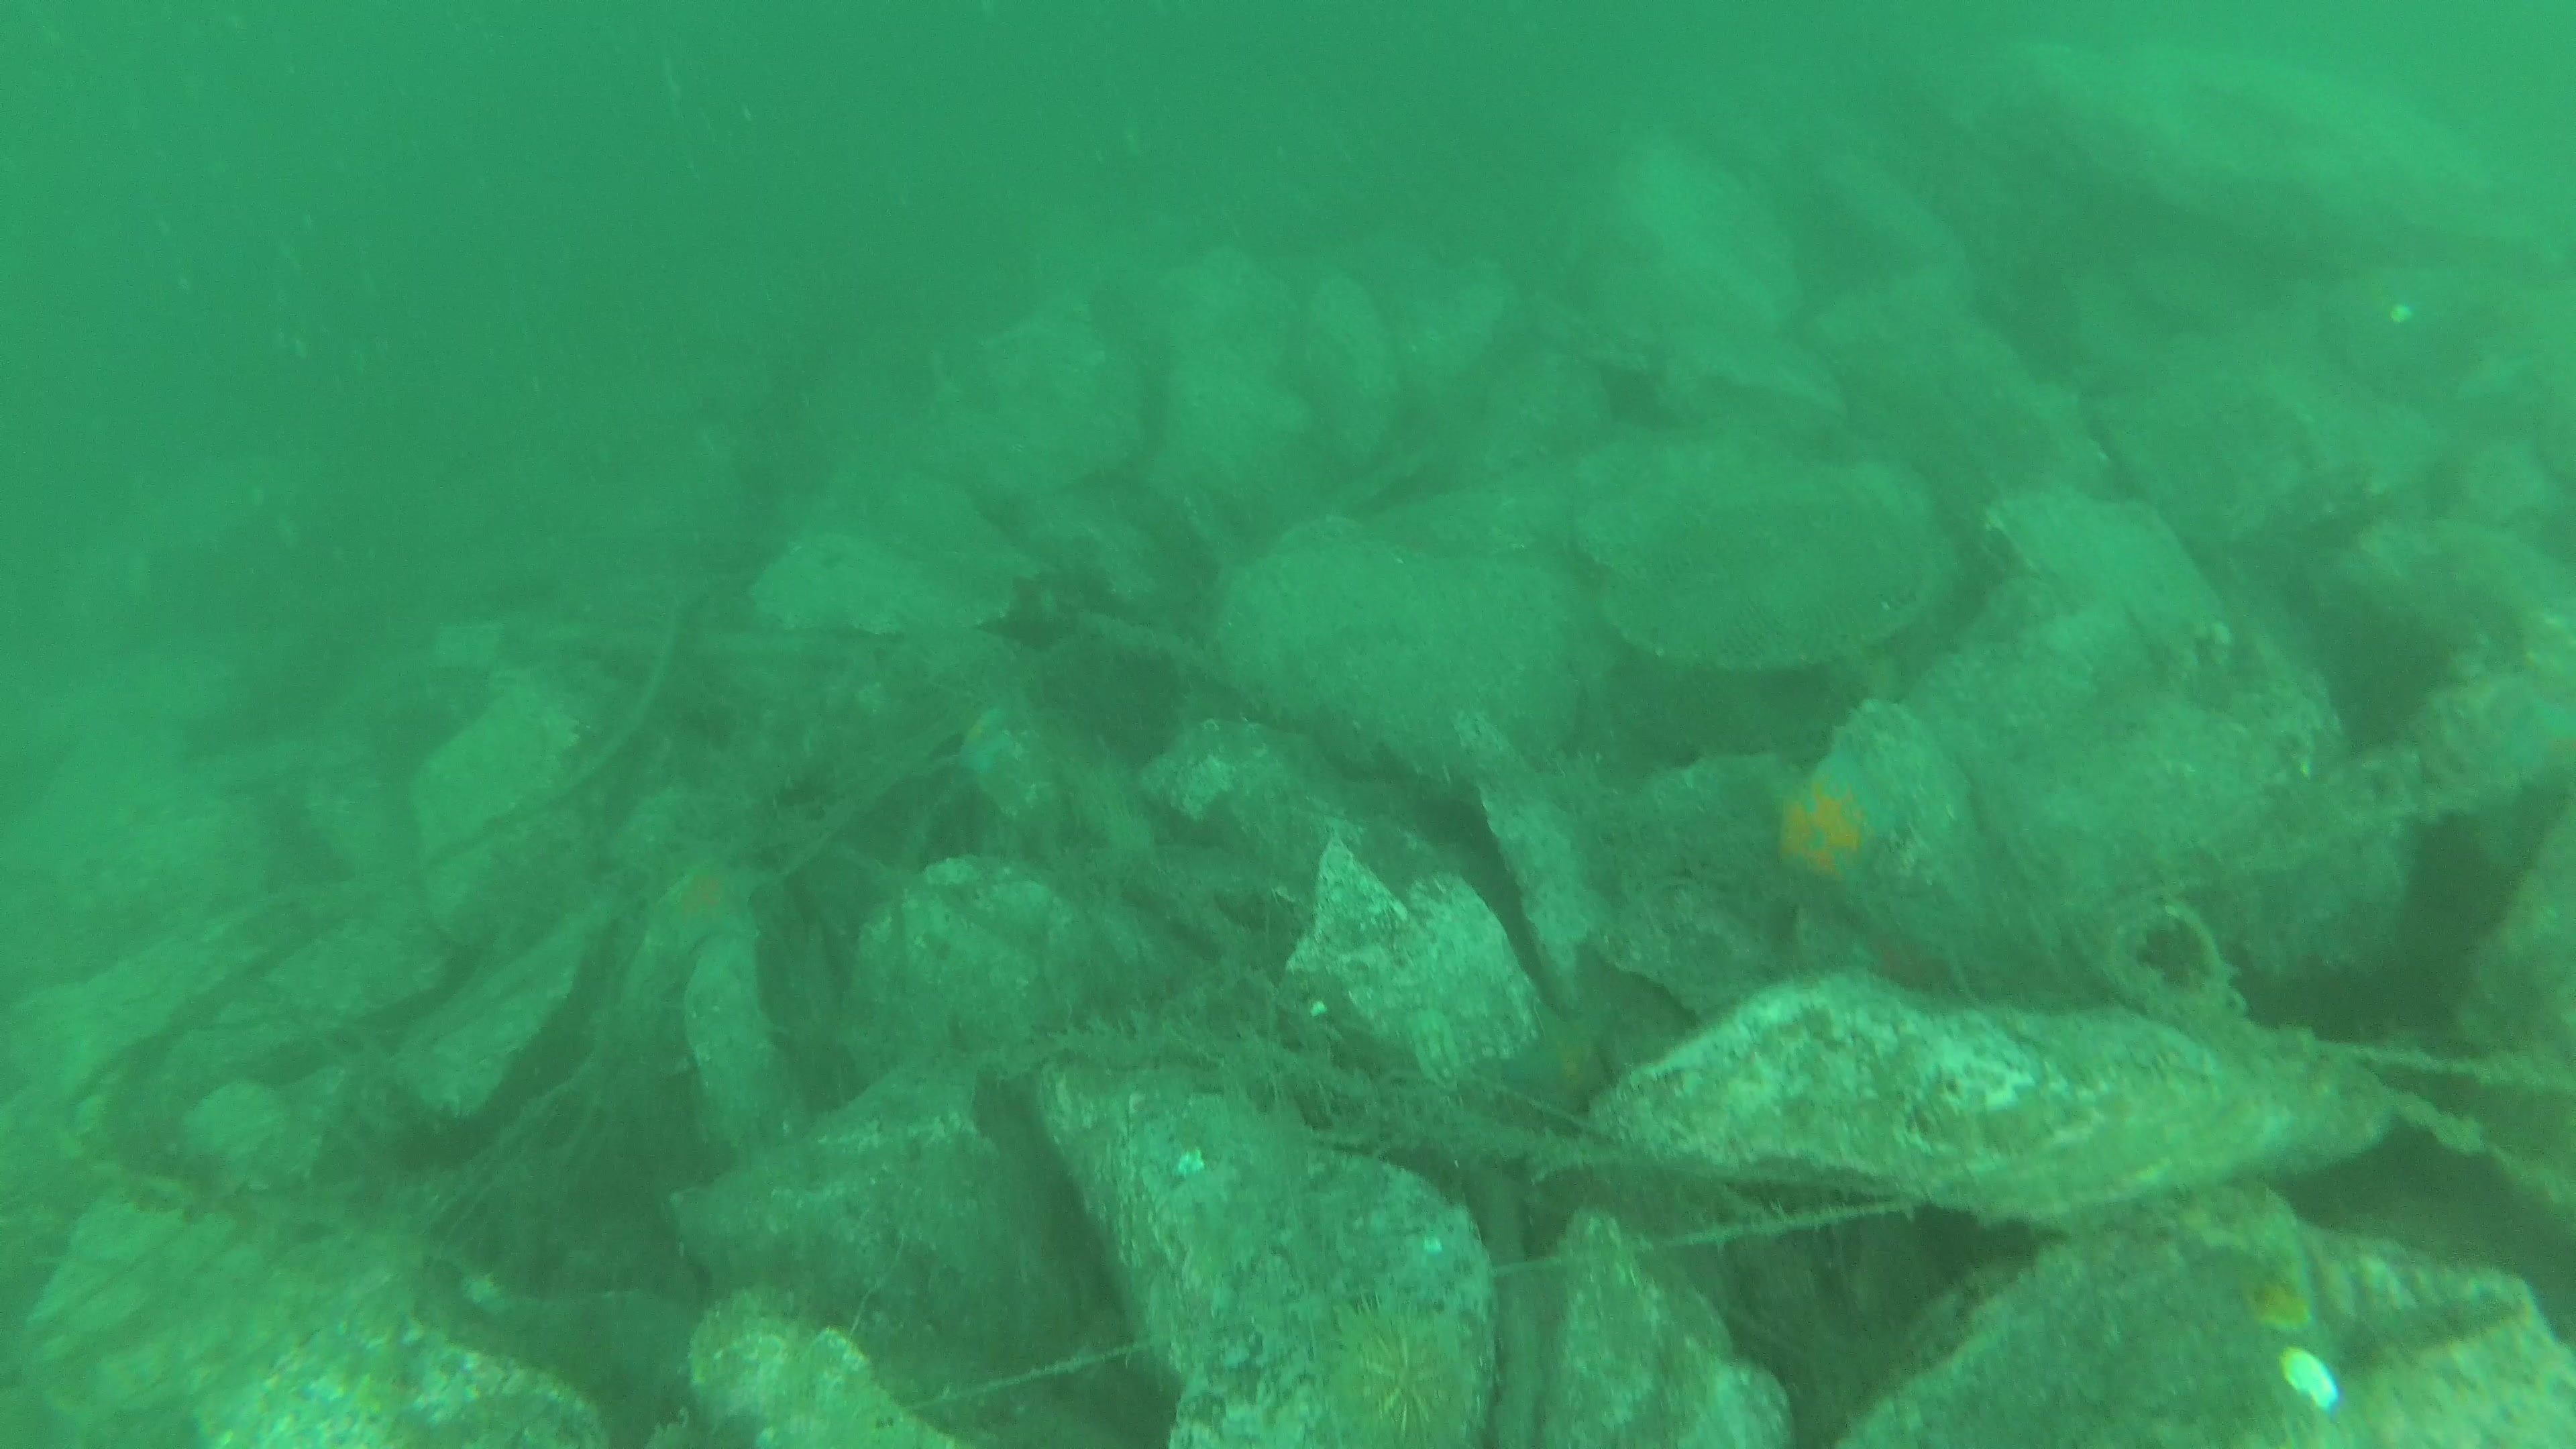echinus: (1309, 1295, 1484, 1447), (1037, 633, 1192, 770), (2316, 607, 2457, 754)
starfish: (1760, 740, 1911, 915), (1490, 993, 1628, 1127), (640, 842, 775, 970)
